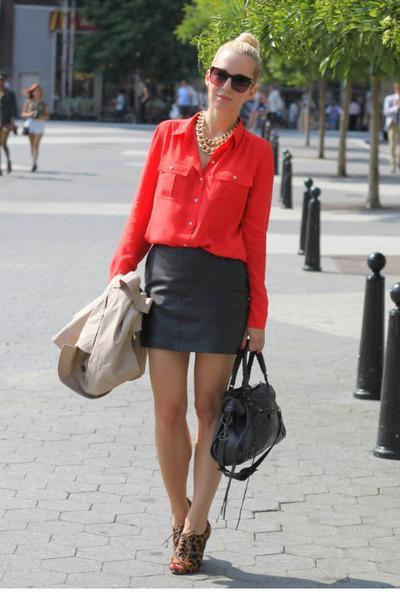bag: (210, 372, 285, 489)
shirt: (110, 108, 273, 329)
shoe: (164, 517, 210, 574)
skirt: (135, 245, 251, 372)
sunglass: (228, 73, 251, 92)
